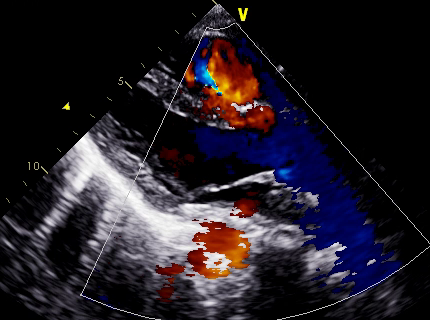AR: (164, 139, 220, 173)
